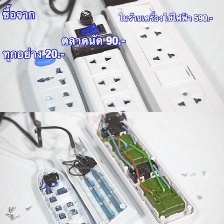three_eye_plug: (100, 0, 224, 112), (83, 111, 198, 224), (58, 7, 150, 113), (55, 132, 145, 224), (23, 40, 89, 113), (33, 158, 96, 224)
